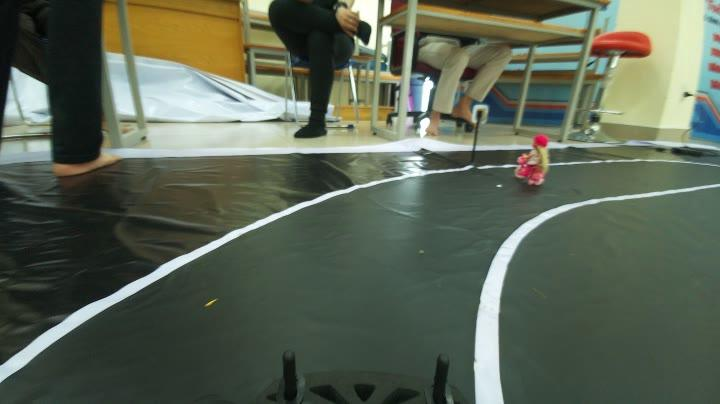pedestrian: (516, 130, 554, 192)
